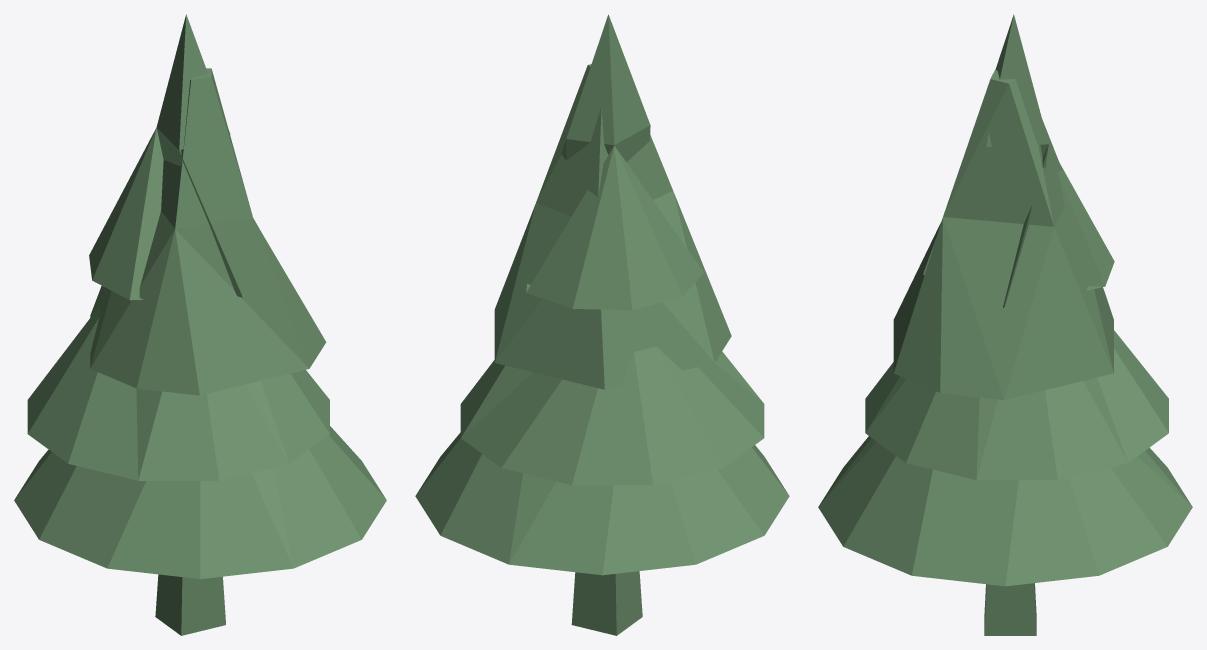
Rendered from tree.lod1.glb.
The picture shows the model from 3 angles, left to right: view 1: azimuth 30°, elevation 25°; view 2: azimuth 150°, elevation 25°; view 3: azimuth 270°, elevation 25°; orthographic projection.
Bounding box in the file's own units: 2.24 × 4.02 × 2.24.
